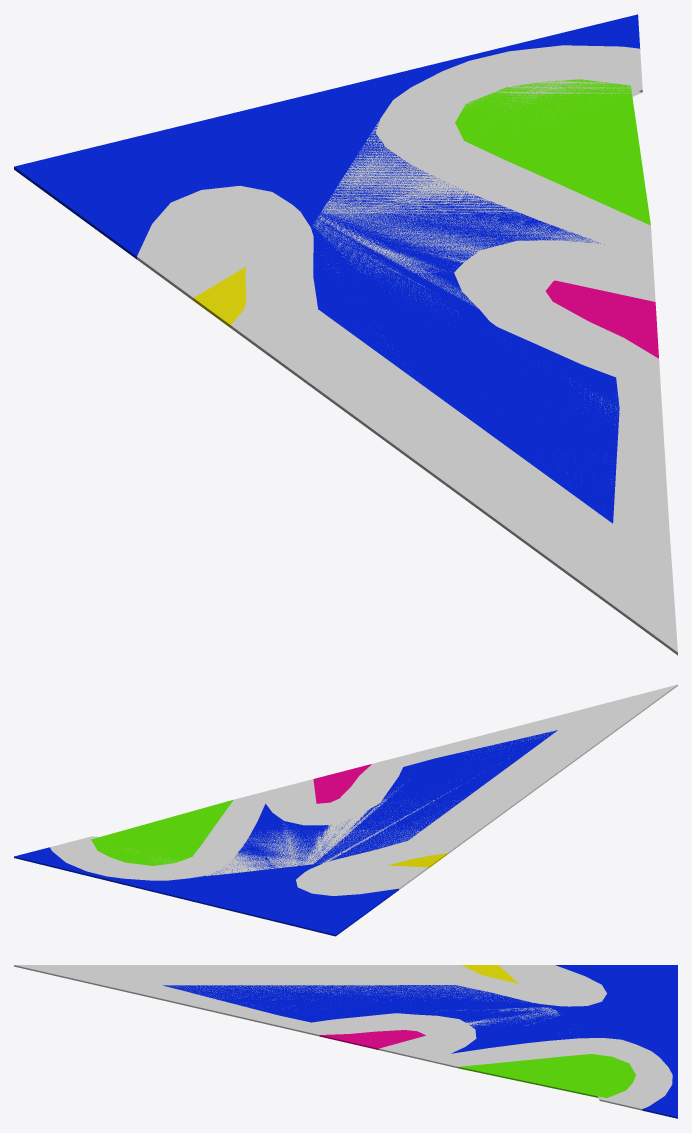
The model's file is kartane.fbx.
3 renders of one model, top to bottom at view 1: azimuth 30°, elevation 25°; view 2: azimuth 150°, elevation 25°; view 3: azimuth 270°, elevation 25°, orthographic. The views are drawn at different scales.
Parts seen in each view (by area): view 1: Cube.046, Cube.065, Cube.051, Cube.064, Cube.032; view 2: Cube.046, Cube.065, Cube.051, Cube.064, Cube.032; view 3: Cube.046, Cube.065, Cube.051, Cube.064, Cube.032.
Part boxes in pixels (box(x1,y1,x2,y2)): Cube.046: box(137, 45, 677, 655); Cube.065: box(14, 14, 640, 523); Cube.051: box(455, 79, 650, 225); Cube.064: box(545, 280, 658, 358); Cube.032: box(193, 267, 246, 327); Cube.046: box(50, 684, 677, 895); Cube.065: box(14, 730, 557, 936); Cube.051: box(91, 799, 233, 865); Cube.064: box(313, 764, 371, 803); Cube.032: box(387, 853, 447, 868); Cube.046: box(14, 965, 672, 1110); Cube.065: box(162, 965, 677, 1118); Cube.051: box(458, 1054, 635, 1098); Cube.064: box(319, 1030, 425, 1049); Cube.032: box(461, 965, 518, 983).
Bounding box in the file's own units: 0.4829 × 0.00405 × 0.8898.
